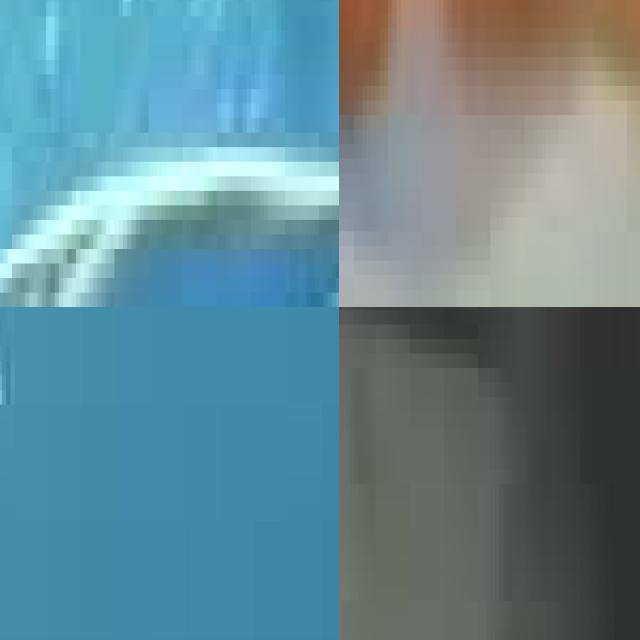fish: (0, 0, 339, 307), (339, 0, 640, 307)
